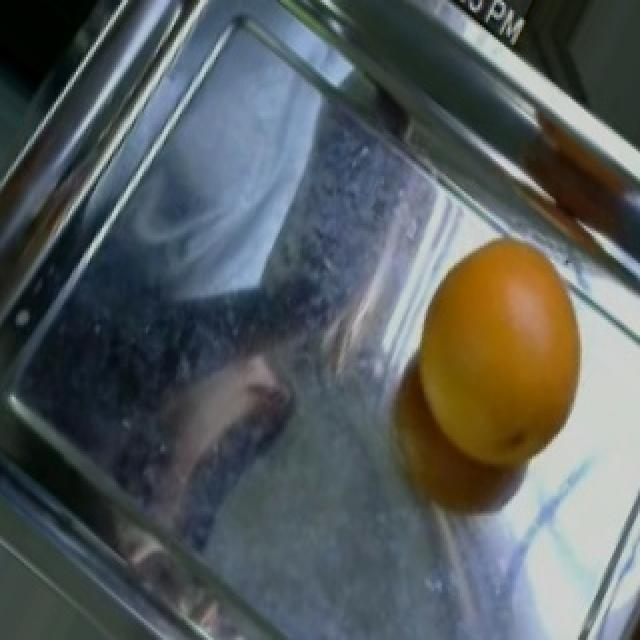Fruit: (390, 236, 608, 486)
